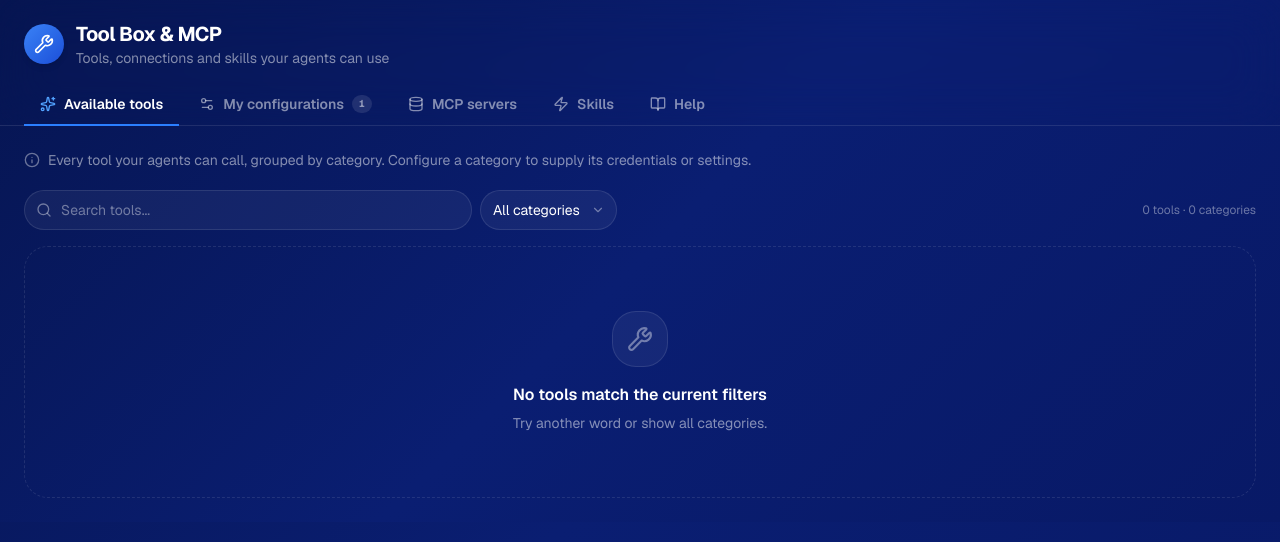
it: ToolsManager smoke › does not count MCP servers as tool configurations
The width and height of the screenshot is (1280, 542).
Click the tab "My configurations 1".
click(285, 105)  # box [183,84,388,126]
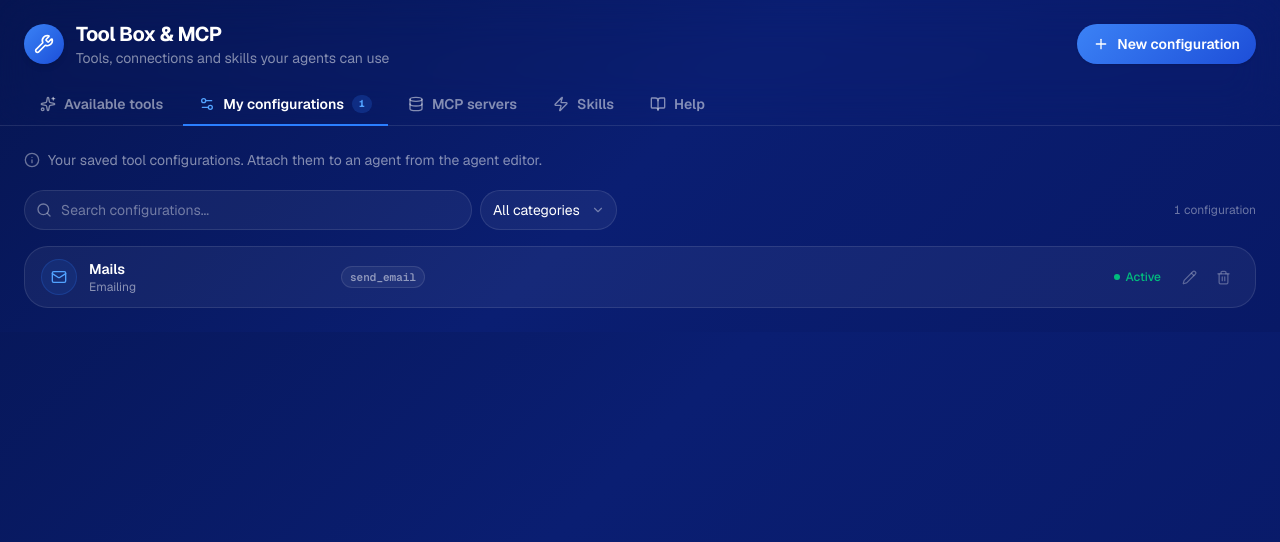
Now the text "Mails" is shown, box [89,260,125,278]
